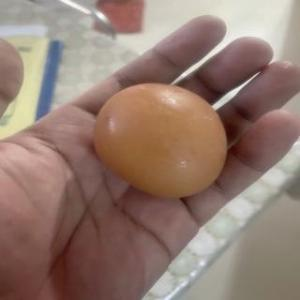egg: (92, 82, 228, 202)
